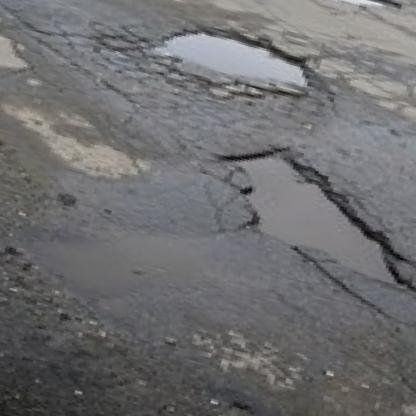pothole: (204, 136, 416, 290), (155, 20, 318, 104), (282, 0, 407, 21)
